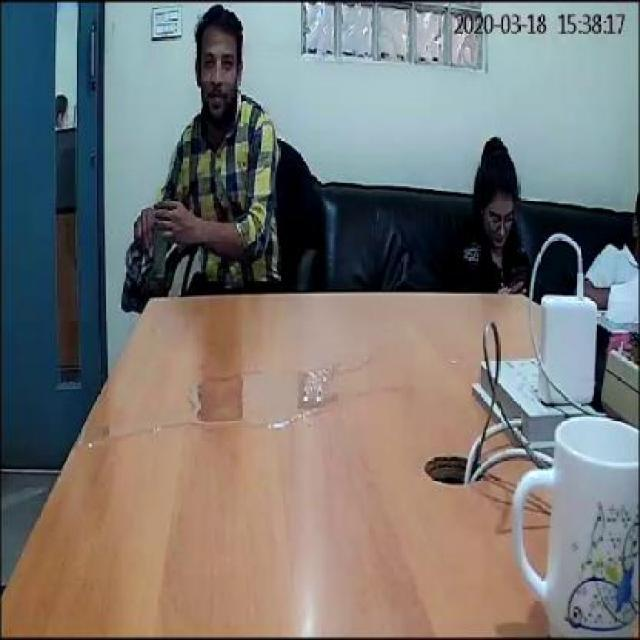spill: (86, 359, 339, 452)
